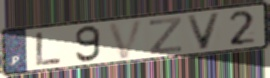2: (228, 9, 258, 47)
9: (74, 24, 102, 63)
L: (34, 30, 64, 67)
V: (106, 17, 147, 61), (184, 11, 224, 51)
Z: (148, 15, 184, 56)
